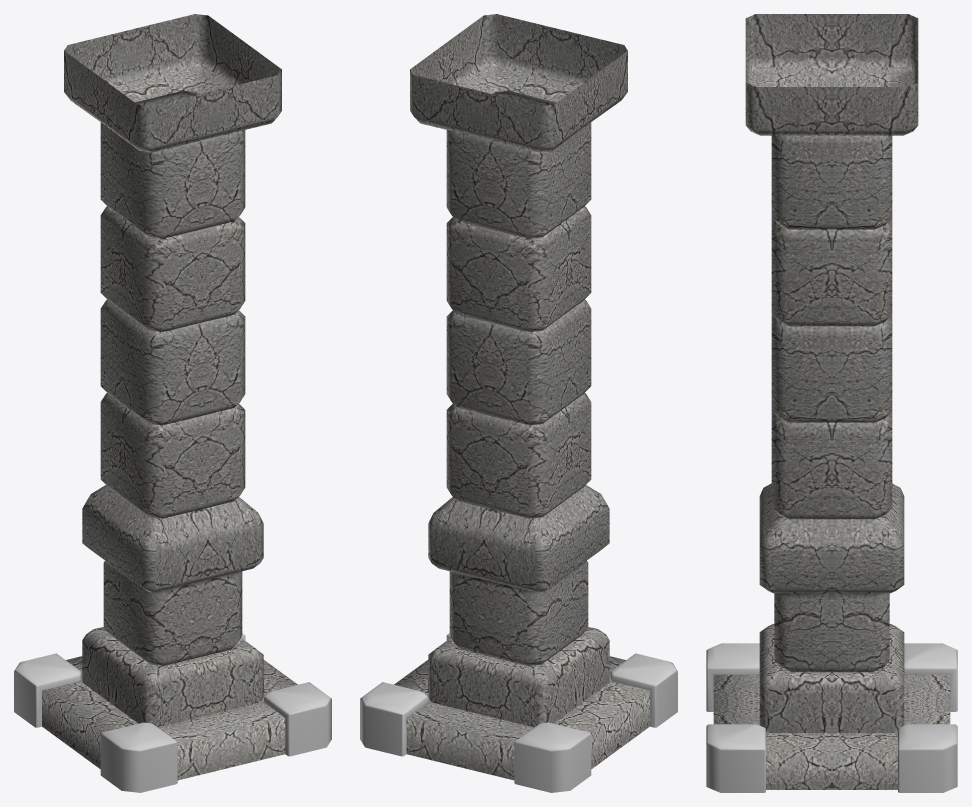
The model's file is TestingPillar.fbx.
3 views of the same model, side by side, from view 1: azimuth 30°, elevation 25°; view 2: azimuth 150°, elevation 25°; view 3: azimuth 270°, elevation 25° (orthographic). The views are drawn at different scales.
Parts seen in each view (by area): view 1: pCube13; view 2: pCube13; view 3: pCube13.
Boxes of the visible parts, x1=… form: pCube13: x1=14, y1=14, x2=331, y2=792; pCube13: x1=360, y1=14, x2=677, y2=792; pCube13: x1=706, y1=14, x2=957, y2=792.
Size of the model in its own units: 6.85 by 20.73 by 6.85.
